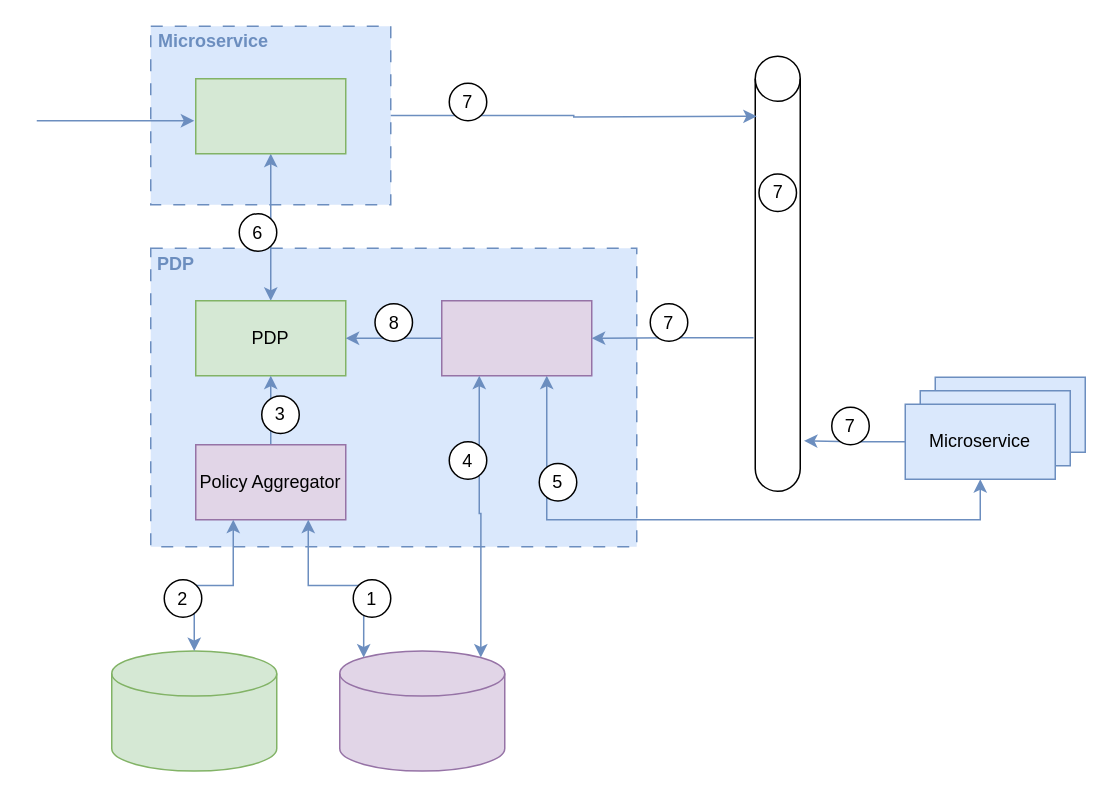
Image size: 1112x798. Some labels were removed from this diagram. Each missing label, with the box of its shape:
Configuration Repository: (338, 650, 505, 771)
Data Aggregator: (440, 299, 592, 376)
PEP: (194, 77, 346, 154)
Policy Repository: (110, 650, 277, 771)
